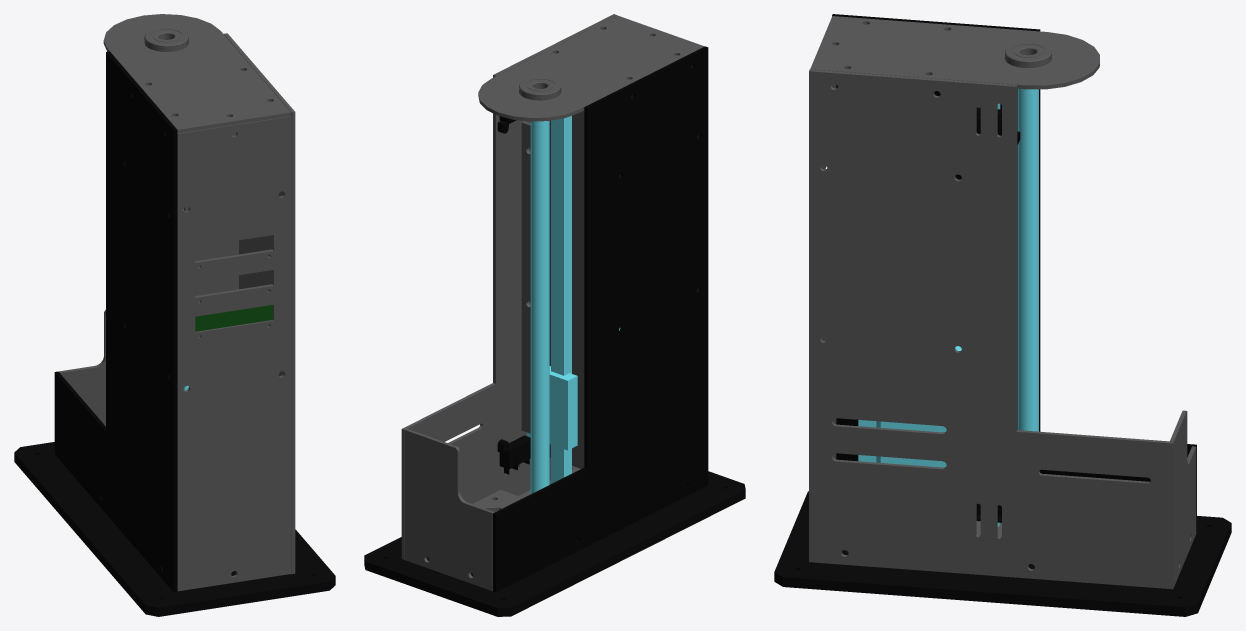
File: StaticMesh4.FBX
3 views of the same model, side by side, from view 1: azimuth 30°, elevation 25°; view 2: azimuth 150°, elevation 25°; view 3: azimuth 270°, elevation 25° (orthographic). The views are drawn at different scales.
Visible parts, largest first — view 1: StaticMesh4; view 2: StaticMesh4; view 3: StaticMesh4.
Part boxes in pixels (x1,y1,x2,y2): StaticMesh4: (14,14,335,616); StaticMesh4: (364,14,745,616); StaticMesh4: (774,14,1231,616).
Size of the model in its own units: 13.15 by 21.26 by 26.05.
